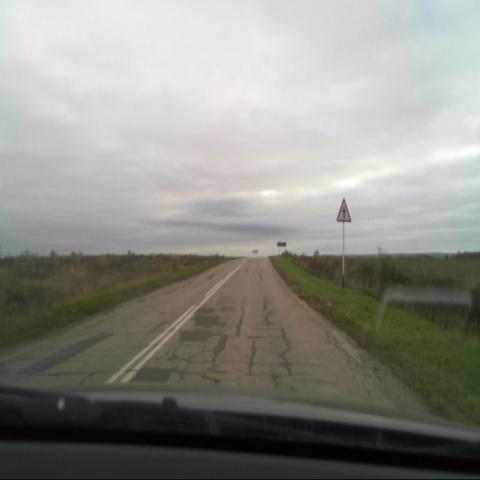2_3: (335, 197, 351, 222)
